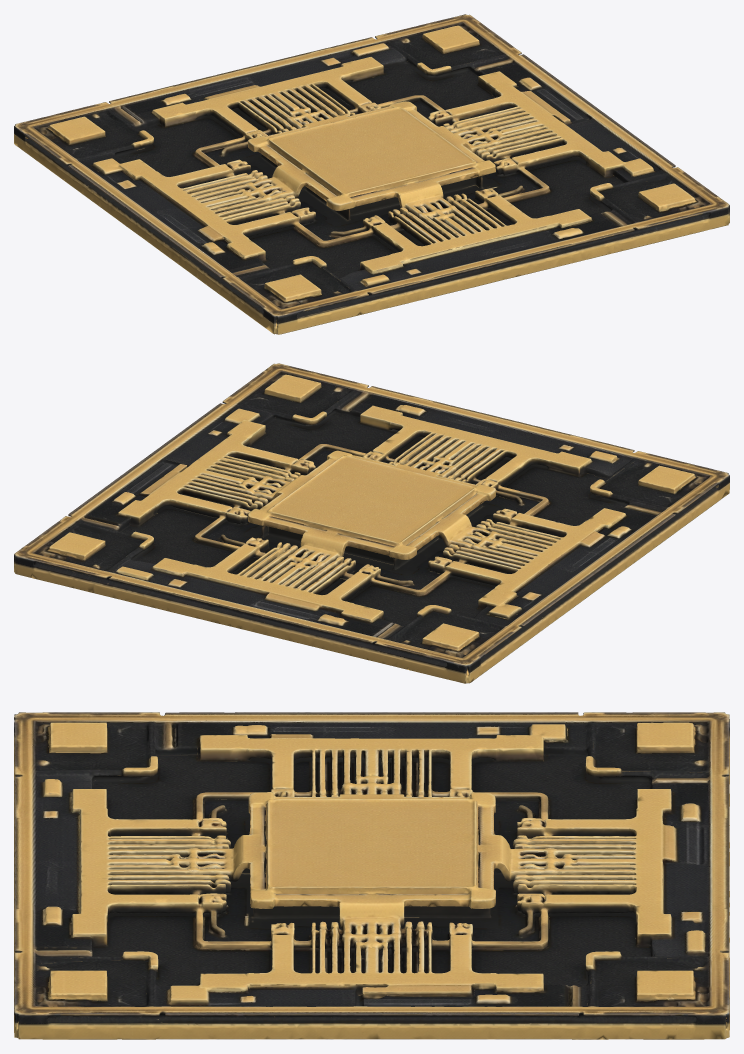
The model's file is Meshy_AI_Golden_Circuit_Nexus_20261125_texture.glb.
3 renders of one model, top to bottom at view 1: azimuth 30°, elevation 25°; view 2: azimuth 150°, elevation 25°; view 3: azimuth 270°, elevation 25°, orthographic. The views are drawn at different scales.
Size of the model in its own units: 1.9 by 0.1373 by 1.9.
Materials: 1 (1 with a texture image).
